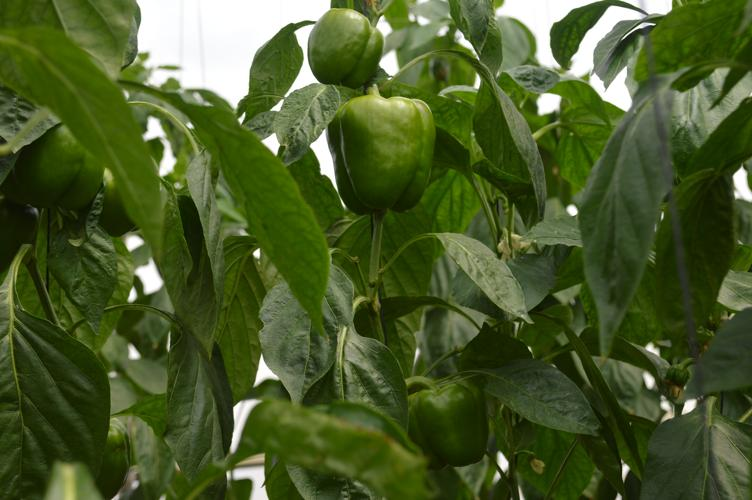BellPepper: (330, 94, 435, 219), (16, 129, 98, 213), (407, 382, 487, 468), (306, 9, 382, 90)
